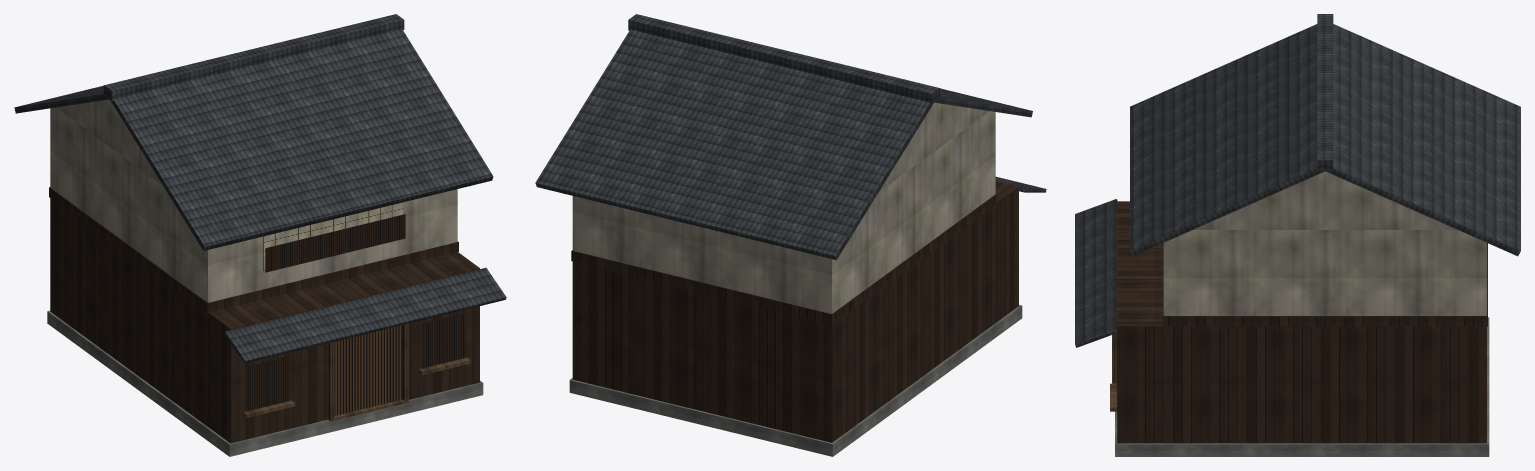
The model's file is machiya.glb.
3 views of the same model, side by side, from view 1: azimuth 30°, elevation 25°; view 2: azimuth 150°, elevation 25°; view 3: azimuth 270°, elevation 25° (orthographic). The views are drawn at different scales.
Visible parts, largest first — view 1: machiya; view 2: machiya; view 3: machiya.
Part boxes in pixels (left/top/right/bottom): machiya: left=14, top=14, right=506, bottom=456; machiya: left=535, top=14, right=1046, bottom=456; machiya: left=1075, top=14, right=1520, bottom=456.
Size of the model in its own units: 7.5 by 7.31 by 9.65.
Materials: 8 (8 with a texture image).
